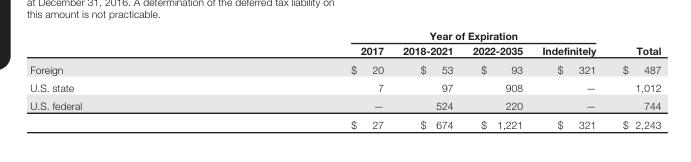table: (29, 29, 660, 130)
table column: (29, 29, 215, 130), (215, 29, 392, 130), (531, 29, 608, 130), (392, 29, 462, 130), (462, 29, 531, 130), (608, 29, 660, 130)
table column header: (29, 29, 660, 59)
table row: (29, 59, 660, 78), (29, 78, 660, 96), (29, 96, 660, 114), (29, 42, 660, 59), (29, 114, 660, 130), (29, 29, 660, 42)
table spanning cell: (215, 29, 608, 42), (608, 29, 660, 59)
